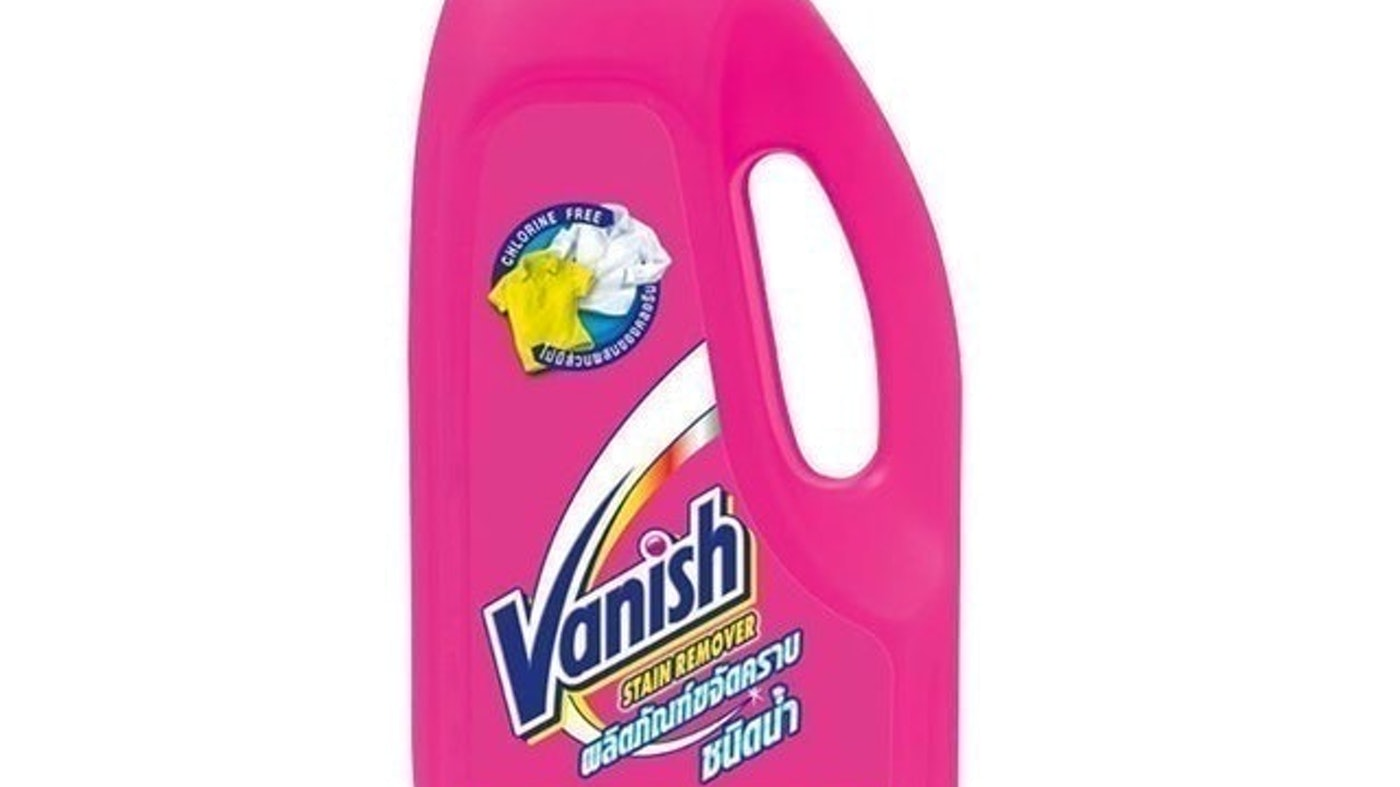Cleaning_solution: (398, 2, 984, 787)
